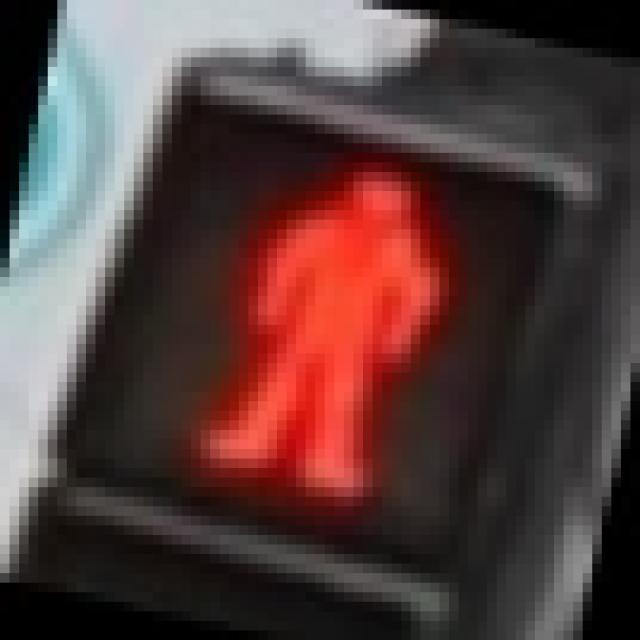red-crossing: (57, 67, 554, 544)
